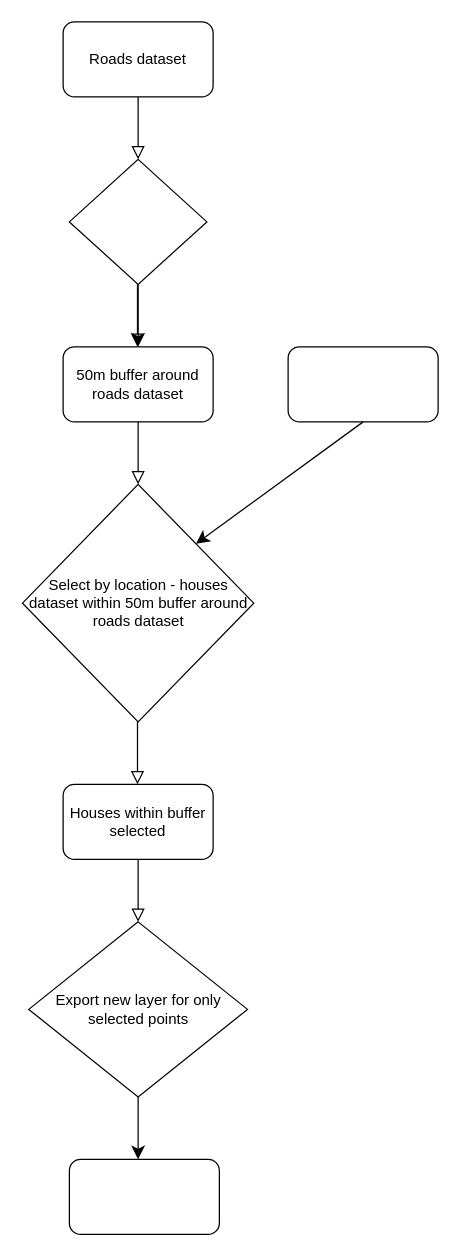
Image size: 460x1256. Some labels were removed from this diagram. Here are the shapes that lost their labels. From the top down, the centre of each, then its label:
(137,221): Create 50m buffer around roads
(362,384): Houses dataset
(143,1196): Houses within 50m buffer around roads dataset
